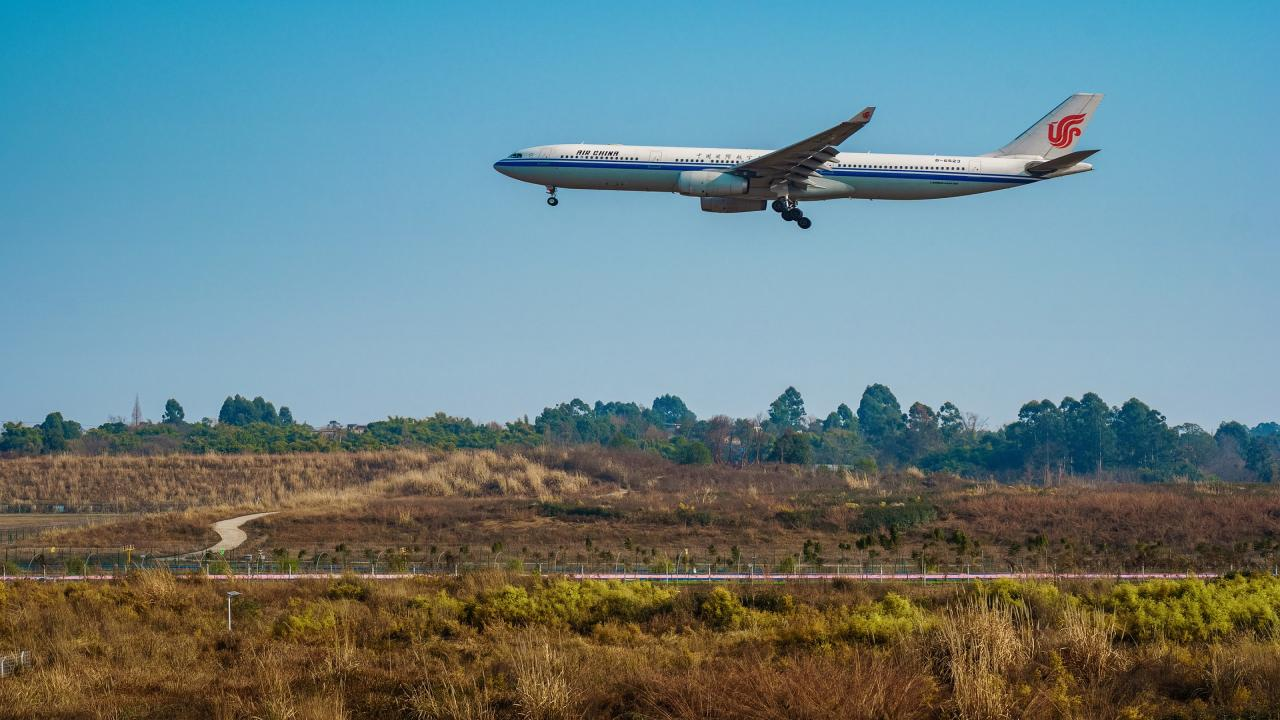Airplane: (478, 82, 1134, 241)
